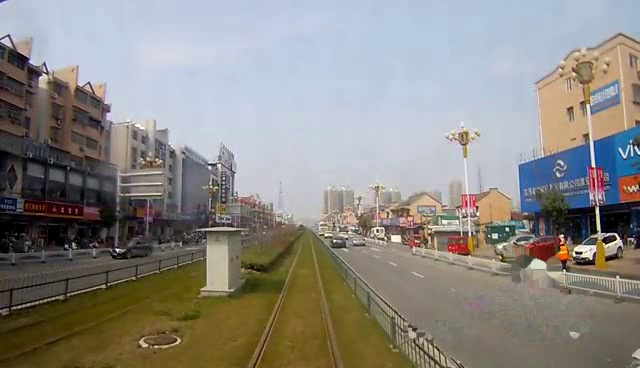car: (115, 234, 160, 257)
